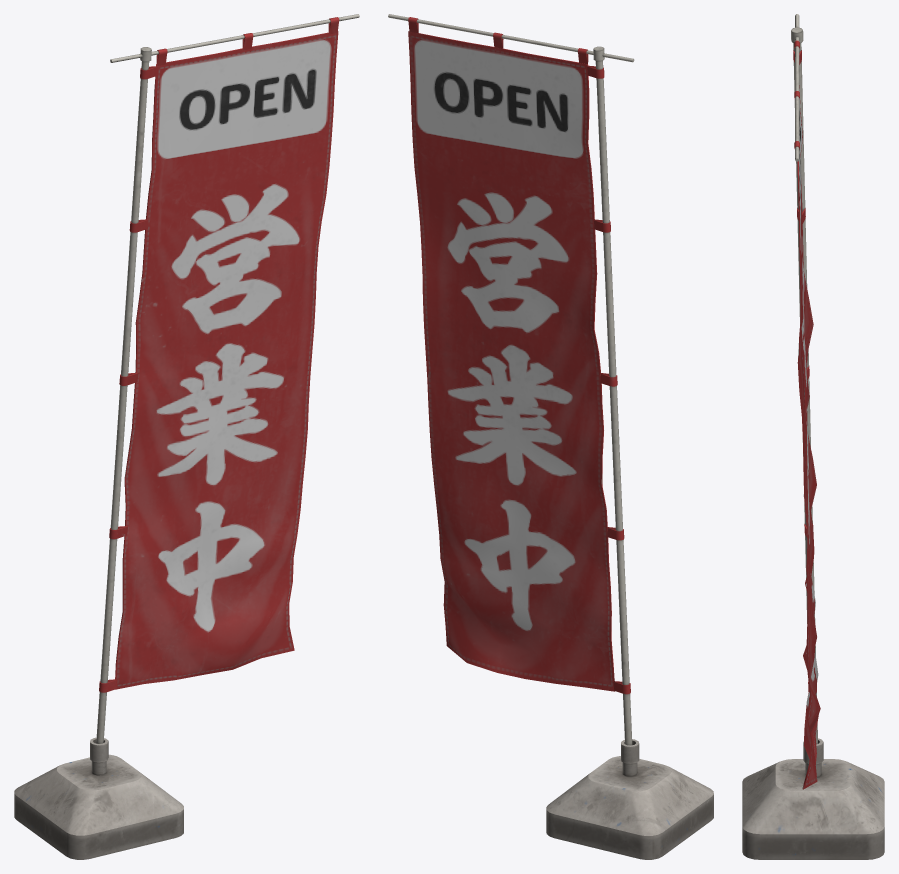
File: bannerflagA.fbx
3 views of the same model, side by side, from view 1: azimuth 30°, elevation 25°; view 2: azimuth 150°, elevation 25°; view 3: azimuth 270°, elevation 25° (orthographic). The views are drawn at different scales.
Visible parts, largest first — view 1: bannerflagA; view 2: bannerflagA; view 3: bannerflagA.
Boxes of the visible parts, <box> form: bannerflagA: <box>14,14,359,859</box>; bannerflagA: <box>388,14,713,859</box>; bannerflagA: <box>742,14,884,859</box>.
Bounding box in the file's own units: 93.68 × 223 × 35.
1 material, 1 textured.
